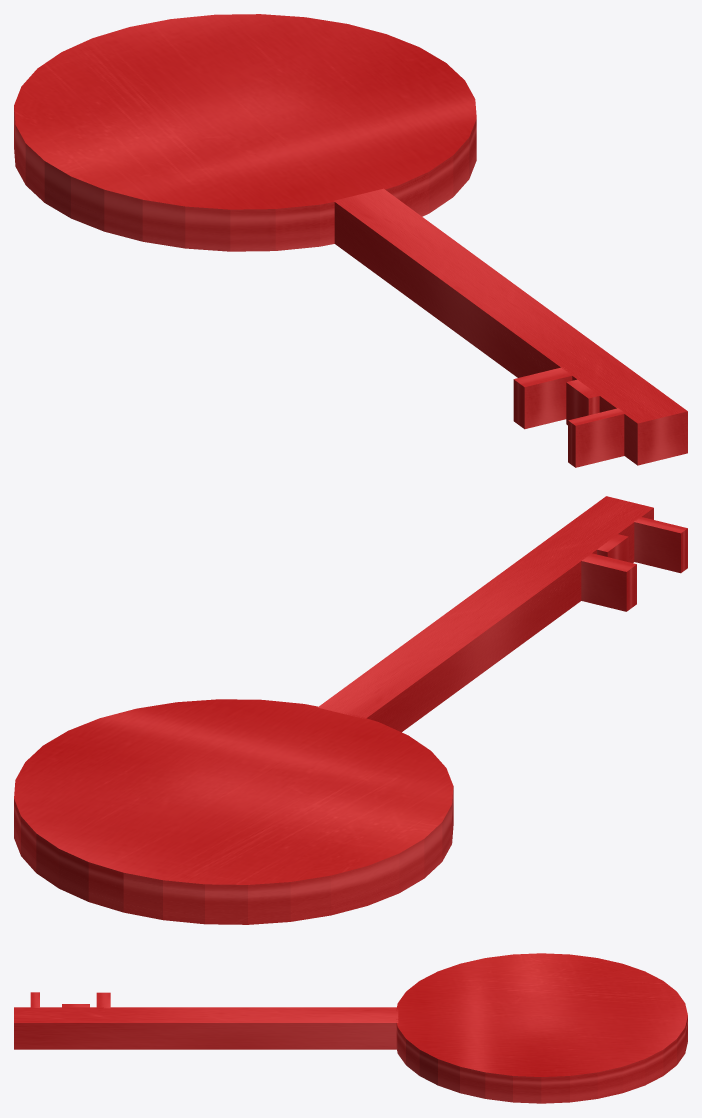
The model's file is red_key.fbx.
3 renders of one model, top to bottom at view 1: azimuth 30°, elevation 25°; view 2: azimuth 150°, elevation 25°; view 3: azimuth 270°, elevation 25°, orthographic. The views are drawn at different scales.
Visible parts, largest first — view 1: Cube.001; view 2: Cube.001; view 3: Cube.001.
Boxes of the visible parts, <box> form: Cube.001: <box>14,14,687,467</box>; Cube.001: <box>14,496,687,924</box>; Cube.001: <box>14,953,687,1103</box>.
Size of the model in its own units: 200 by 20 by 460.
